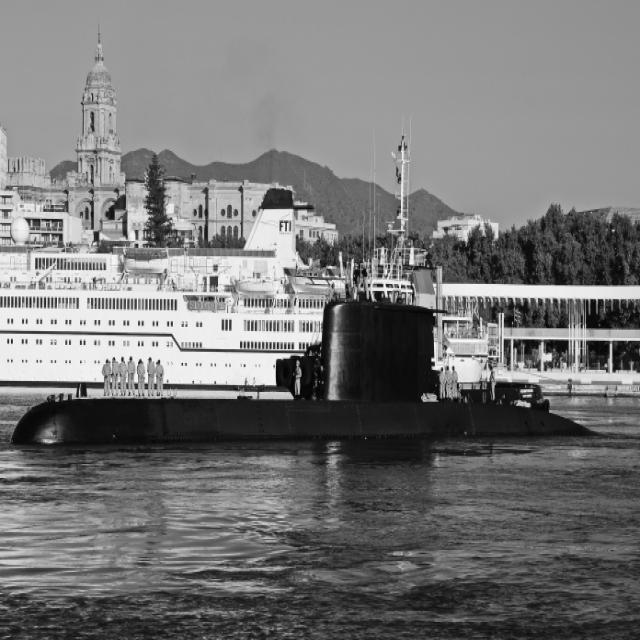submarine: (1, 300, 640, 440)
